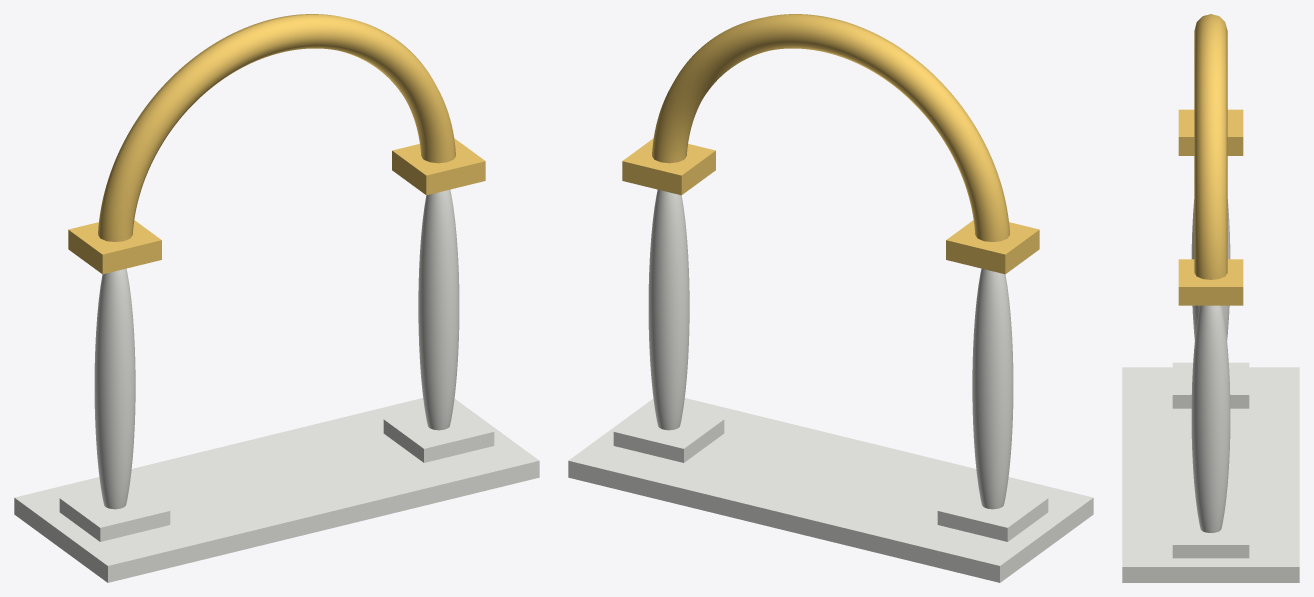
Rendered from sp_gate.glb.
3 views of the same model, side by side, from view 1: azimuth 30°, elevation 25°; view 2: azimuth 150°, elevation 25°; view 3: azimuth 270°, elevation 25° (orthographic). The views are drawn at different scales.
Size of the model in its own units: 8 by 8.43 by 3.
